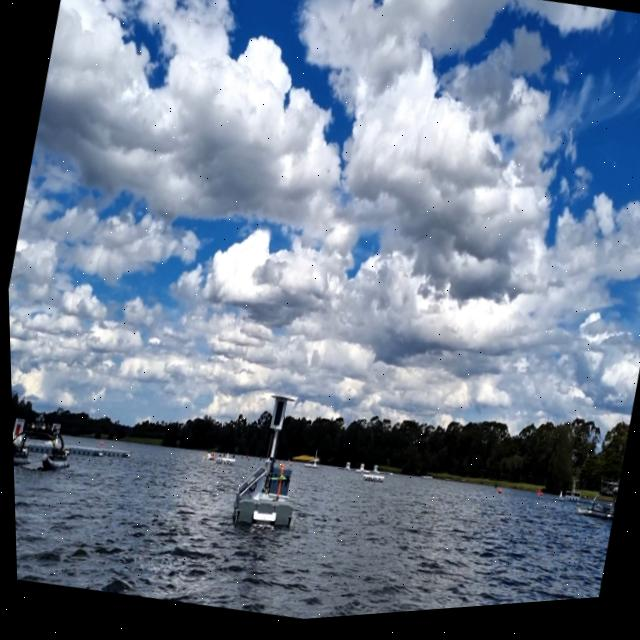led: (268, 402, 284, 432)
